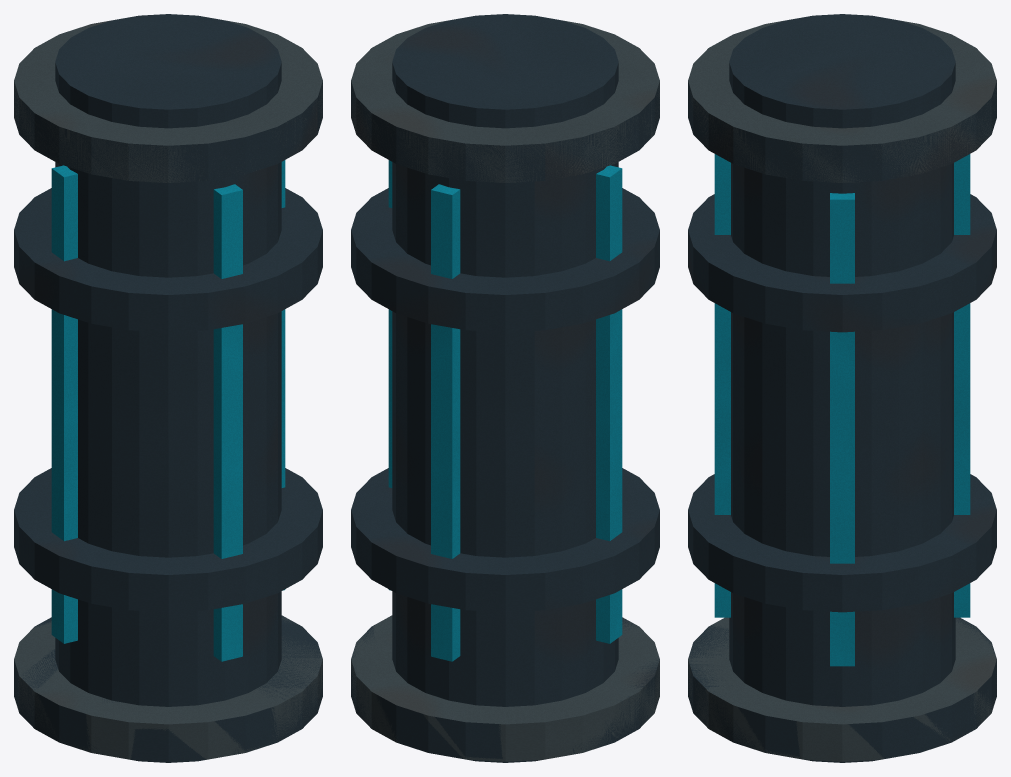
The model's file is Core_EnergyPillar.fbx.
The picture shows the model from 3 angles, left to right: view 1: azimuth 30°, elevation 25°; view 2: azimuth 150°, elevation 25°; view 3: azimuth 270°, elevation 25°; orthographic projection.
Visible parts, largest first — view 1: COL_Foundry_Core_EnergyPillar_00_Both, ENV_Foundry_Core_EnergyPillar_LOD0, COL_Foundry_Core_EnergyPillar_03_Both, COL_Foundry_Core_EnergyPillar_02_Both, COL_Foundry_Core_EnergyPillar_04_Both, COL_Foundry_Core_EnergyPillar_01_Both; view 2: COL_Foundry_Core_EnergyPillar_00_Both, ENV_Foundry_Core_EnergyPillar_LOD0, COL_Foundry_Core_EnergyPillar_03_Both, COL_Foundry_Core_EnergyPillar_02_Both, COL_Foundry_Core_EnergyPillar_04_Both, COL_Foundry_Core_EnergyPillar_01_Both; view 3: COL_Foundry_Core_EnergyPillar_00_Both, ENV_Foundry_Core_EnergyPillar_LOD0, COL_Foundry_Core_EnergyPillar_03_Both, COL_Foundry_Core_EnergyPillar_02_Both, COL_Foundry_Core_EnergyPillar_04_Both, COL_Foundry_Core_EnergyPillar_01_Both.
Part boxes in pixels (<box>): COL_Foundry_Core_EnergyPillar_00_Both: <box>55,14,281,762</box>; ENV_Foundry_Core_EnergyPillar_LOD0: <box>14,20,322,759</box>; COL_Foundry_Core_EnergyPillar_03_Both: <box>14,188,322,332</box>; COL_Foundry_Core_EnergyPillar_02_Both: <box>14,468,322,612</box>; COL_Foundry_Core_EnergyPillar_04_Both: <box>14,82,322,182</box>; COL_Foundry_Core_EnergyPillar_01_Both: <box>14,616,322,761</box>; COL_Foundry_Core_EnergyPillar_00_Both: <box>392,14,618,762</box>; ENV_Foundry_Core_EnergyPillar_LOD0: <box>351,20,659,761</box>; COL_Foundry_Core_EnergyPillar_03_Both: <box>351,188,659,332</box>; COL_Foundry_Core_EnergyPillar_02_Both: <box>351,468,659,612</box>; COL_Foundry_Core_EnergyPillar_04_Both: <box>351,81,659,182</box>; COL_Foundry_Core_EnergyPillar_01_Both: <box>351,617,659,758</box>; COL_Foundry_Core_EnergyPillar_00_Both: <box>729,14,955,762</box>; ENV_Foundry_Core_EnergyPillar_LOD0: <box>688,20,996,761</box>; COL_Foundry_Core_EnergyPillar_03_Both: <box>688,194,996,332</box>; COL_Foundry_Core_EnergyPillar_02_Both: <box>688,474,996,612</box>; COL_Foundry_Core_EnergyPillar_04_Both: <box>688,81,996,182</box>; COL_Foundry_Core_EnergyPillar_01_Both: <box>688,617,996,758</box>.
Size of what is drawn, in the model's own units: 1.5 by 3.5 by 1.5.
